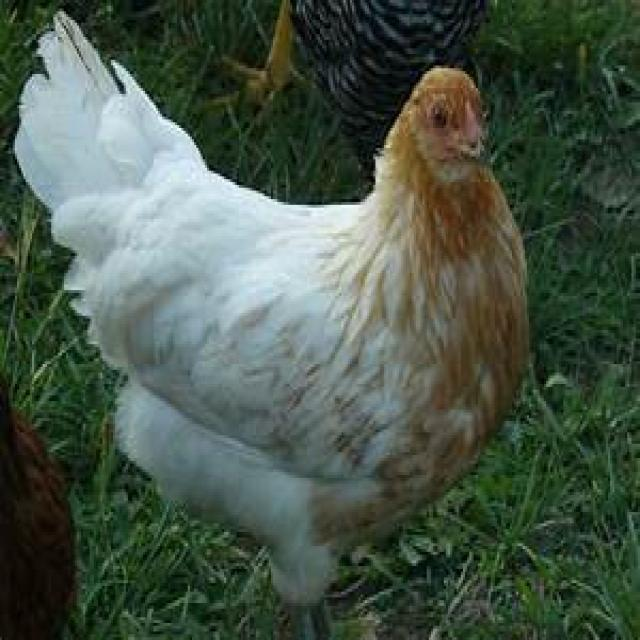hen: (11, 11, 533, 640)
